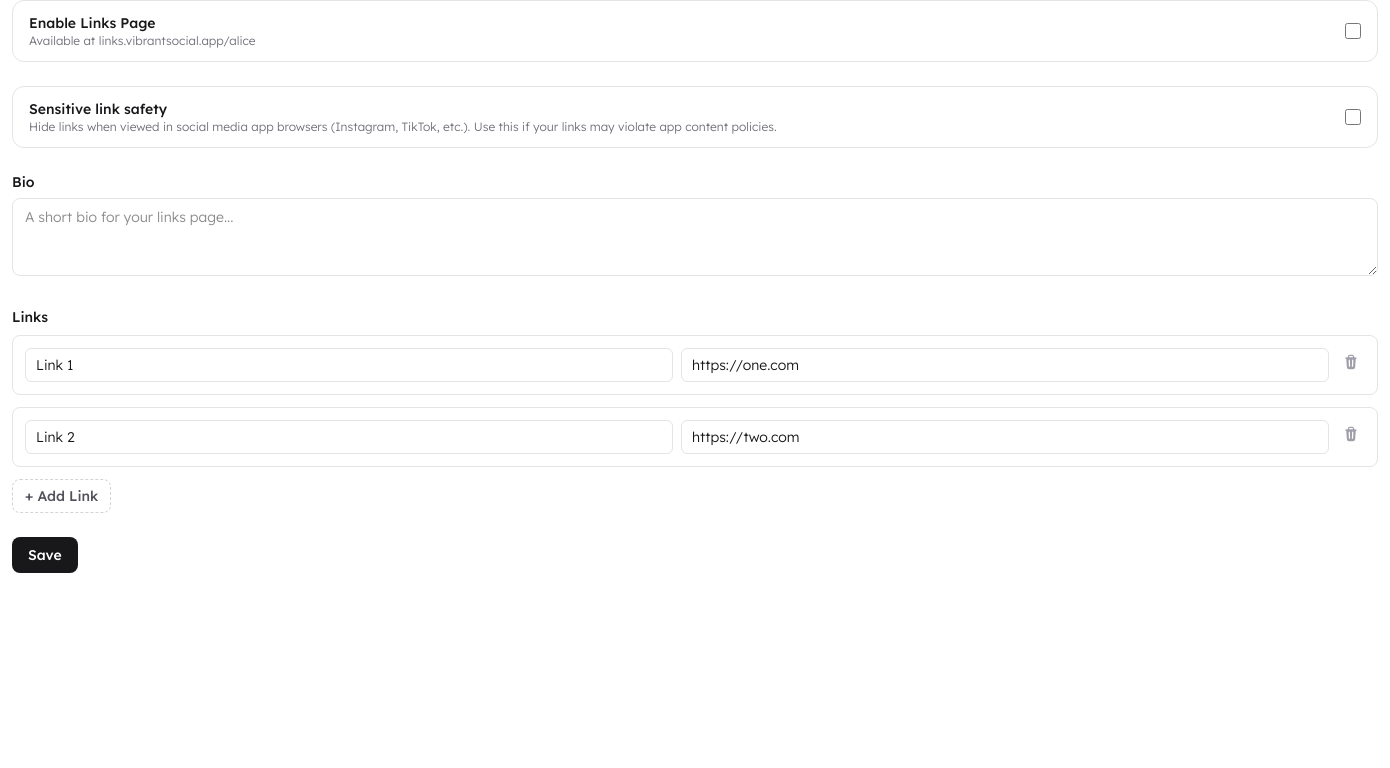
Test: LinksForm › removes a link when remove button is clicked
Expected: the number of elements with test id "link-entry" is 2, [12,335,1378,395]; [12,407,1378,467]
Click the 1st button with test id "remove-link-btn": (1351,362) [1337,348,1365,376]
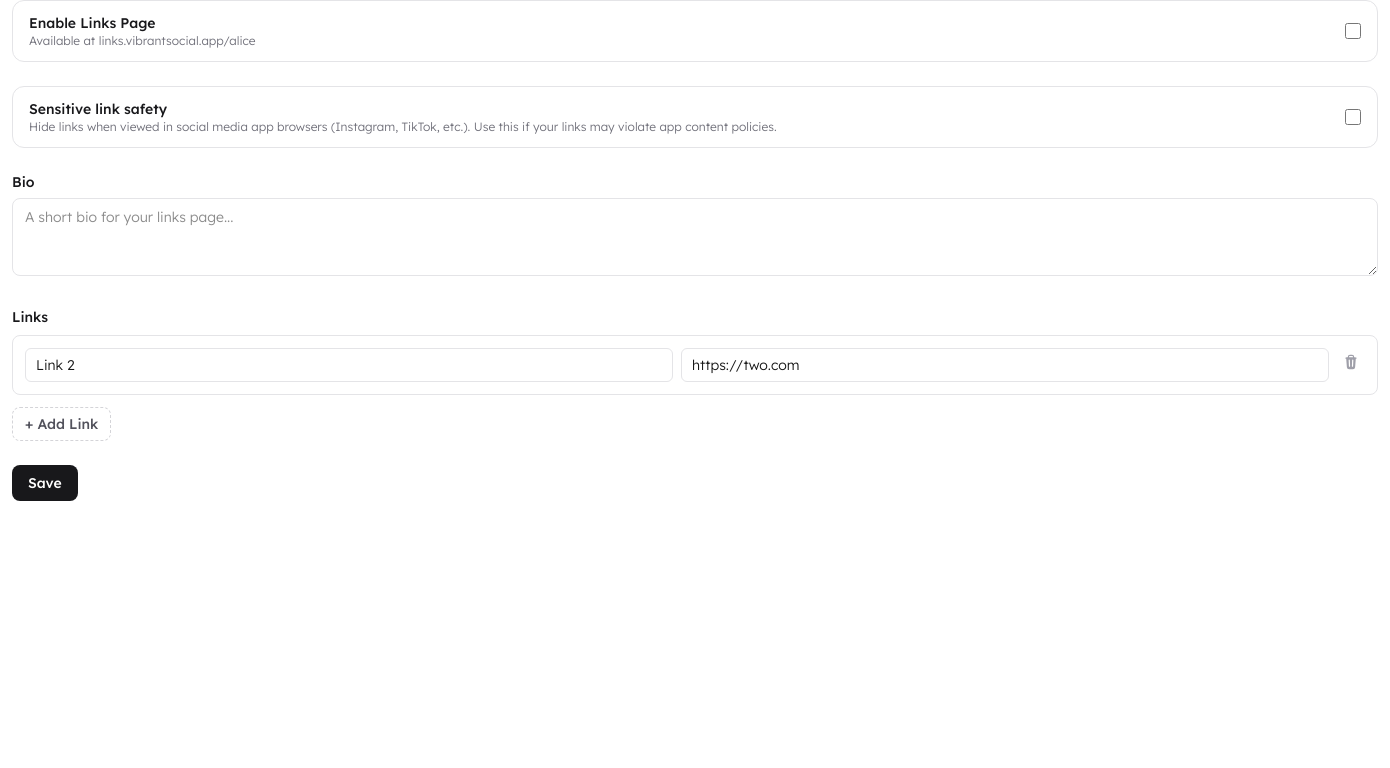
Expected: the 1st field showing "Link 2" is shown, [25,348,673,382]
Now the number of elements with test id "link-entry" is 1, box [12,335,1378,395]
